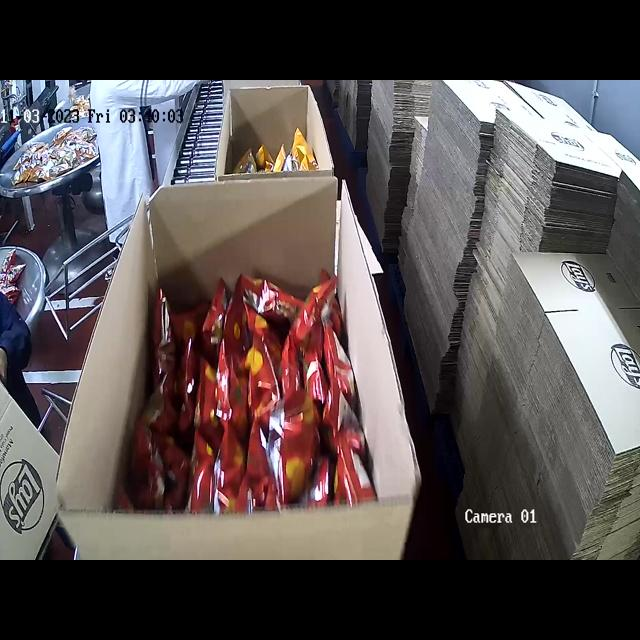cheese: (229, 133, 323, 173)
masala: (150, 282, 369, 505)
